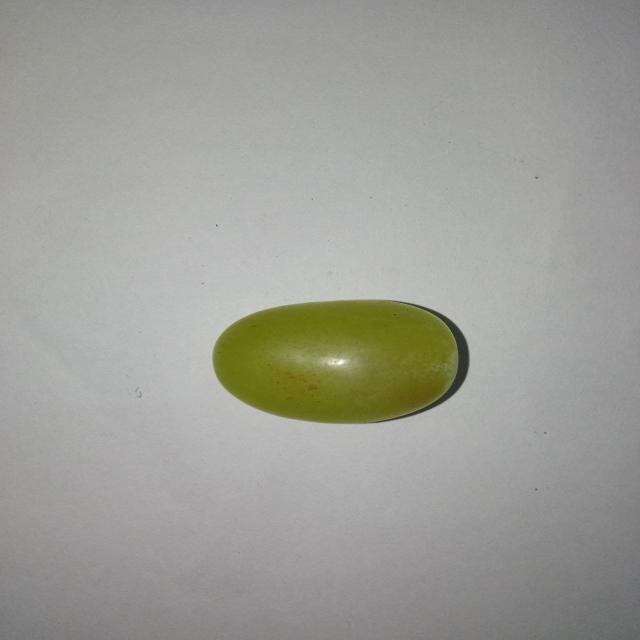fresh_grape: (211, 298, 460, 422)
